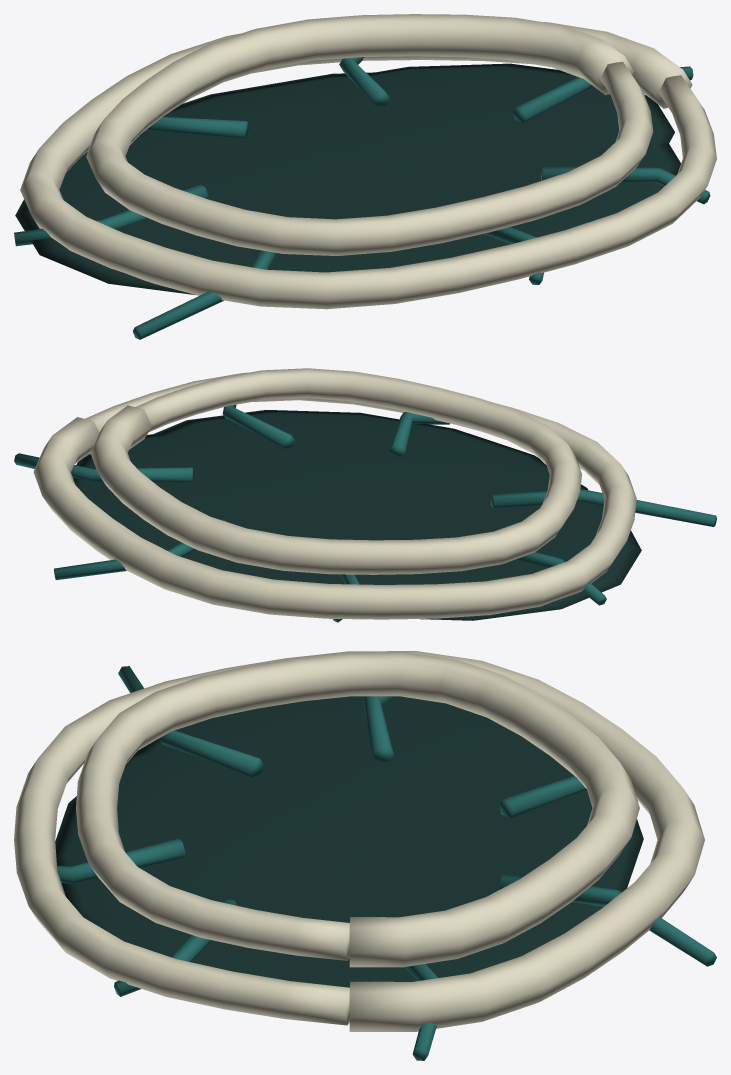
File: great_work_memory_reef_stage_0.obj
3 renders of one model, top to bottom at view 1: azimuth 30°, elevation 25°; view 2: azimuth 150°, elevation 25°; view 3: azimuth 270°, elevation 25°, orthographic. The views are drawn at different scales.
Parts seen in each view (by area): view 1: accreting_reef_foundation.001, accreting_reef_foundation, irregular_anchoring_lobe.111, irregular_anchoring_lobe.112, irregular_anchoring_lobe.113, anchoring_root.263, anchoring_root.261, anchoring_root.259, anchoring_root.262, anchoring_root.265, anchoring_root.260, anchoring_root.264; view 2: accreting_reef_foundation.001, accreting_reef_foundation, irregular_anchoring_lobe.113, irregular_anchoring_lobe.111, irregular_anchoring_lobe.112, anchoring_root.263, anchoring_root.259, anchoring_root.260, anchoring_root.265, anchoring_root.264, anchoring_root.262; view 3: accreting_reef_foundation.001, accreting_reef_foundation, irregular_anchoring_lobe.111, irregular_anchoring_lobe.113, irregular_anchoring_lobe.112, anchoring_root.263, anchoring_root.260, anchoring_root.264, anchoring_root.261, anchoring_root.262, anchoring_root.259, anchoring_root.265.
Boxes of the visible parts, x1=… form: accreting_reef_foundation.001: x1=86, y1=14, x2=653, y2=255; accreting_reef_foundation: x1=20, y1=22, x2=716, y2=309; irregular_anchoring_lobe.111: x1=15, y1=72, x2=391, y2=294; irregular_anchoring_lobe.112: x1=336, y1=63, x2=674, y2=167; irregular_anchoring_lobe.113: x1=283, y1=143, x2=680, y2=272; anchoring_root.263: x1=133, y1=250, x2=276, y2=339; anchoring_root.261: x1=146, y1=117, x2=248, y2=138; anchoring_root.259: x1=512, y1=66, x2=693, y2=122; anchoring_root.262: x1=14, y1=184, x2=208, y2=246; anchoring_root.265: x1=541, y1=166, x2=710, y2=204; anchoring_root.260: x1=339, y1=57, x2=389, y2=106; anchoring_root.264: x1=483, y1=227, x2=543, y2=284; accreting_reef_foundation.001: x1=90, y1=368, x2=581, y2=574; accreting_reef_foundation: x1=33, y1=372, x2=636, y2=619; irregular_anchoring_lobe.113: x1=154, y1=410, x2=587, y2=503; irregular_anchoring_lobe.111: x1=183, y1=499, x2=641, y2=620; irregular_anchoring_lobe.112: x1=73, y1=434, x2=331, y2=551; anchoring_root.263: x1=490, y1=489, x2=716, y2=526; anchoring_root.259: x1=14, y1=453, x2=193, y2=482; anchoring_root.260: x1=54, y1=519, x2=226, y2=580; anchoring_root.265: x1=222, y1=404, x2=294, y2=448; anchoring_root.264: x1=389, y1=412, x2=449, y2=456; anchoring_root.262: x1=466, y1=534, x2=606, y2=605; accreting_reef_foundation.001: x1=76, y1=652, x2=639, y2=967; accreting_reef_foundation: x1=14, y1=651, x2=704, y2=1031; irregular_anchoring_lobe.111: x1=137, y1=696, x2=643, y2=913; irregular_anchoring_lobe.113: x1=55, y1=751, x2=344, y2=977; irregular_anchoring_lobe.112: x1=272, y1=851, x2=592, y2=987; anchoring_root.263: x1=118, y1=666, x2=263, y2=777; anchoring_root.260: x1=499, y1=873, x2=716, y2=966; anchoring_root.264: x1=57, y1=838, x2=185, y2=884; anchoring_root.261: x1=498, y1=775, x2=586, y2=818; anchoring_root.262: x1=363, y1=696, x2=393, y2=761; anchoring_root.259: x1=405, y1=964, x2=437, y2=1060; anchoring_root.265: x1=114, y1=898, x2=237, y2=996.
Size of the model in its own units: 6.44 by 0.6459 by 4.99.
